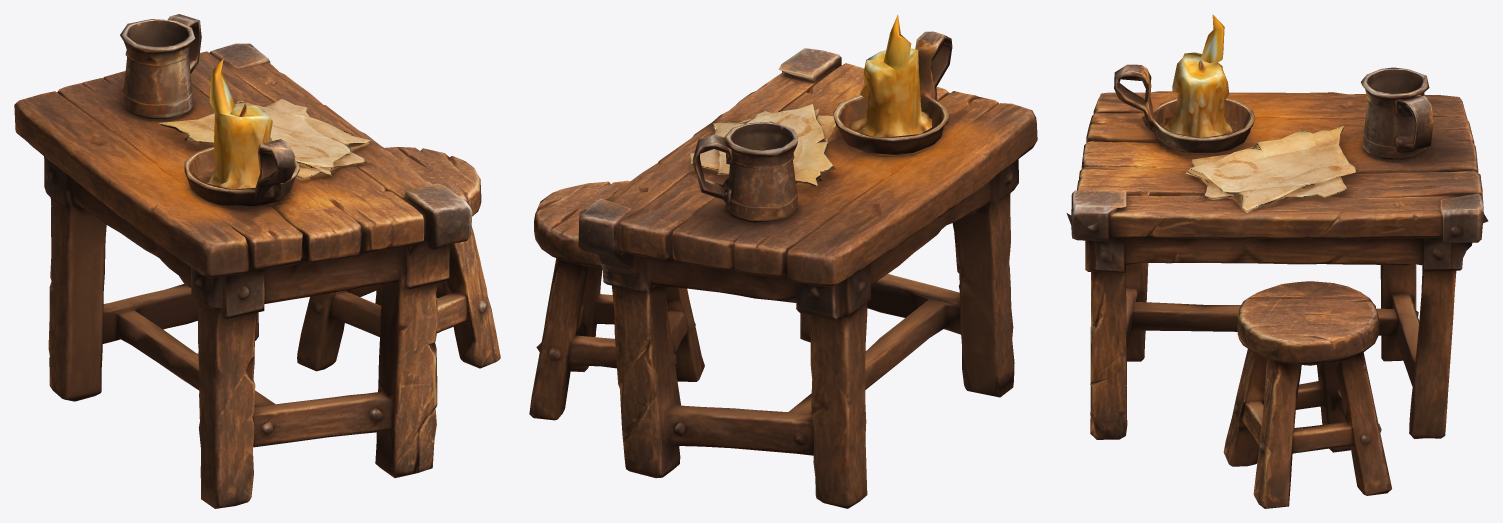
Rendered from mesa-carcereiro.glb.
The picture shows the model from 3 angles, left to right: view 1: azimuth 30°, elevation 25°; view 2: azimuth 150°, elevation 25°; view 3: azimuth 270°, elevation 25°; orthographic projection. The views are drawn at different scales.
Visible parts, largest first — view 1: tripo_node_4a65d866-d4d0-4b2c-bcb1-eb7b7b84e9e3; view 2: tripo_node_4a65d866-d4d0-4b2c-bcb1-eb7b7b84e9e3; view 3: tripo_node_4a65d866-d4d0-4b2c-bcb1-eb7b7b84e9e3.
Boxes of the visible parts, left/top/right/bottom form: tripo_node_4a65d866-d4d0-4b2c-bcb1-eb7b7b84e9e3: left=14, top=14, right=500, bottom=508; tripo_node_4a65d866-d4d0-4b2c-bcb1-eb7b7b84e9e3: left=529, top=14, right=1037, bottom=508; tripo_node_4a65d866-d4d0-4b2c-bcb1-eb7b7b84e9e3: left=1066, top=14, right=1488, bottom=508.
Size of the model in its own units: 0.7657 by 0.75 by 0.7932.
1 material, 1 textured.
